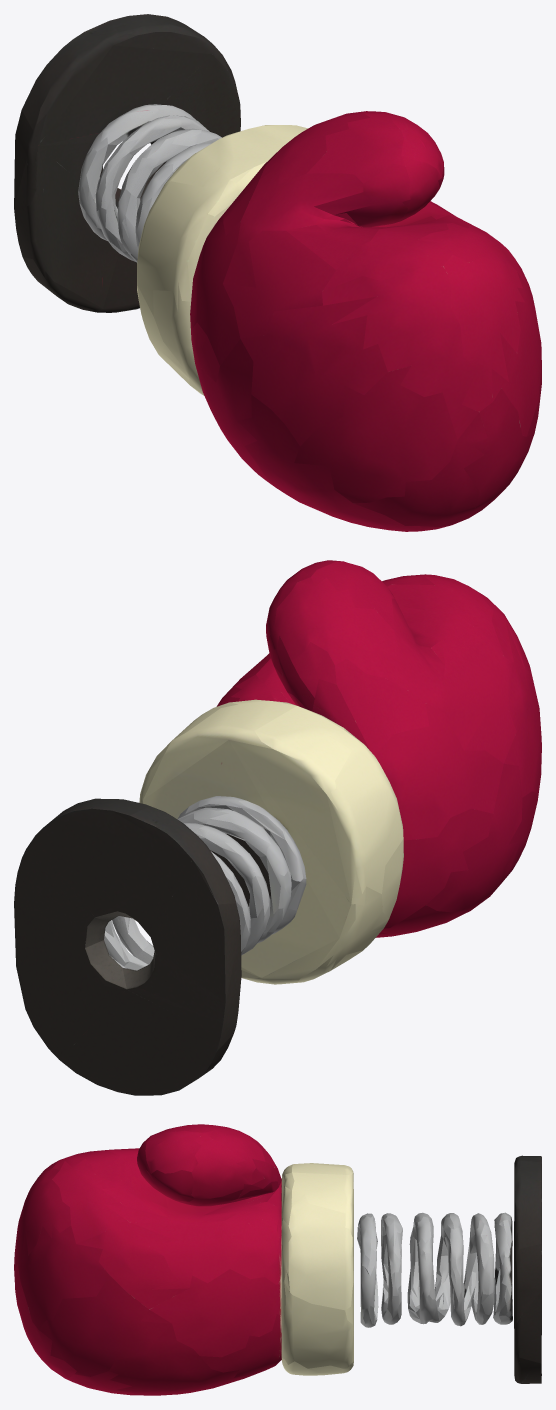
The model's file is boxing_glove.glb.
3 views of the same model, one above another, from view 1: azimuth 30°, elevation 25°; view 2: azimuth 150°, elevation 25°; view 3: azimuth 270°, elevation 25° (orthographic). The views are drawn at different scales.
Bounding box in the file's own units: 0.85 × 1.04 × 1.9.
Materials: 1 (1 with a texture image).
